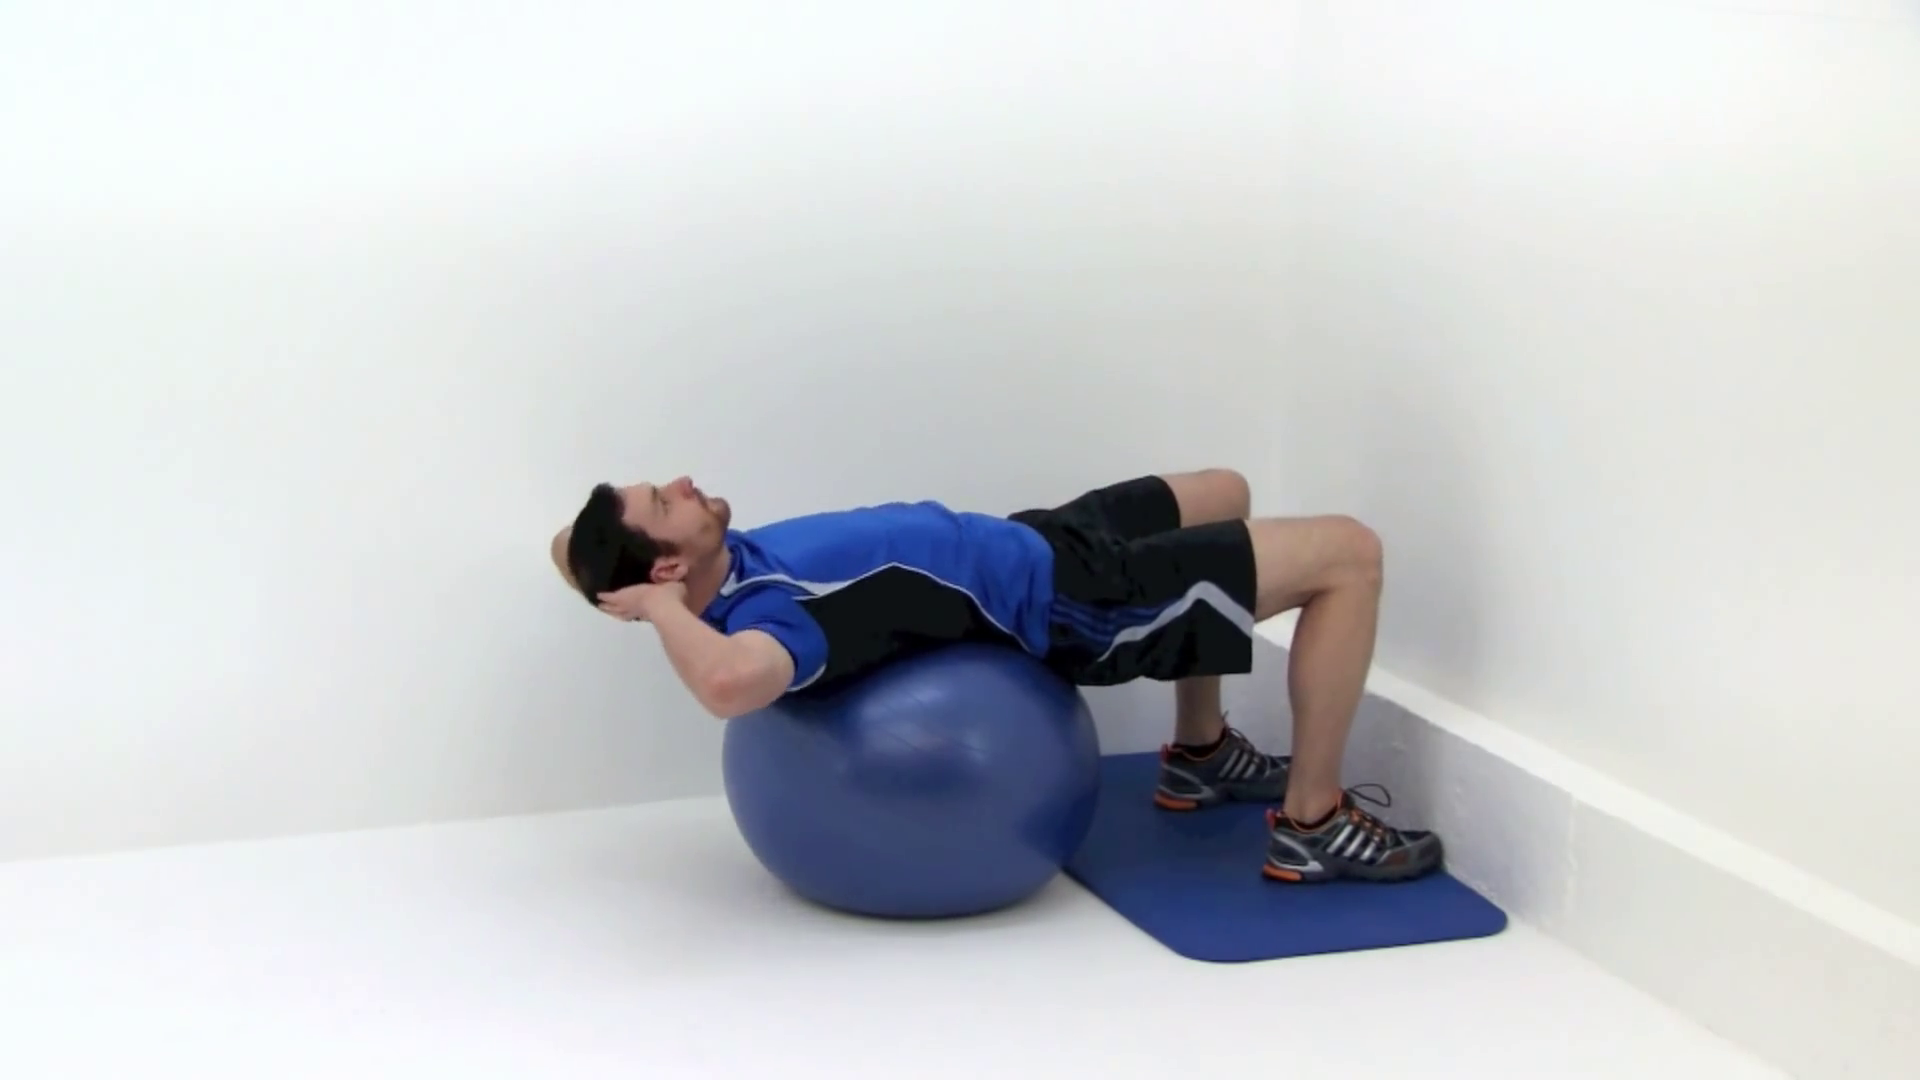yogaball: (700, 654, 1114, 938)
